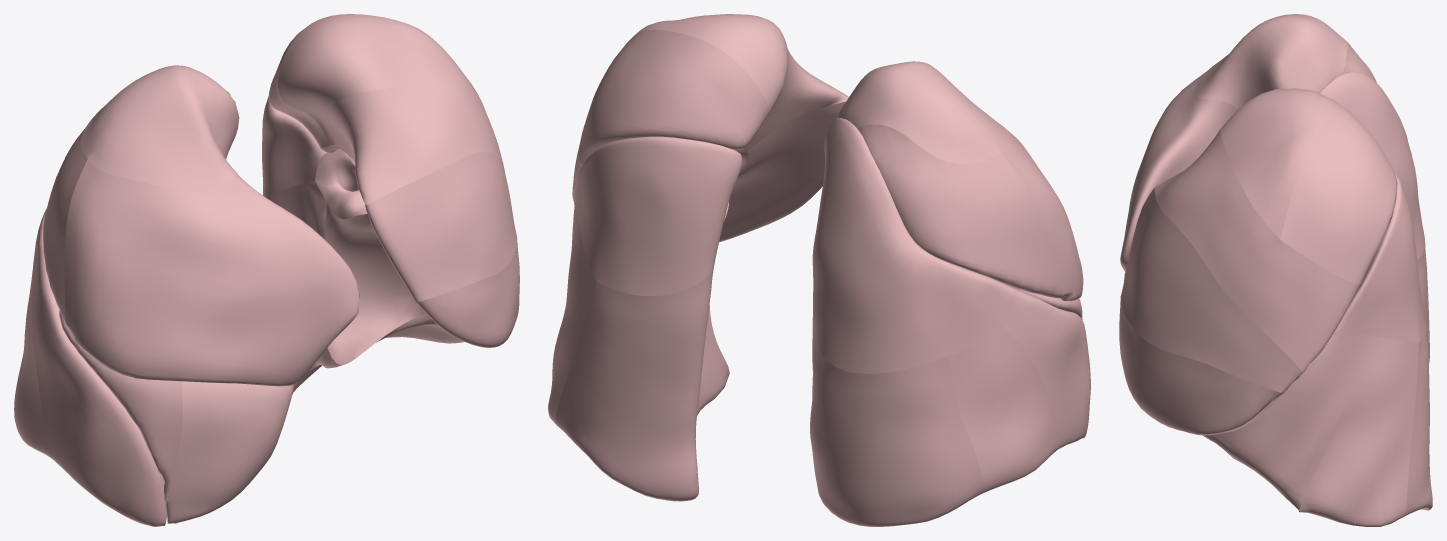
File: 3d-vh-f-lung.glb
The picture shows the model from 3 angles, left to right: view 1: azimuth 30°, elevation 25°; view 2: azimuth 150°, elevation 25°; view 3: azimuth 270°, elevation 25°; orthographic projection. The views are drawn at different scales.
Visible parts, largest first — view 1: VH_F_right_anterior_bronchopulmonary_segm, VH_F_right_anterior_basal_bronchopulmonary_segment, VH_F_lingula_superior_bronchopulmonary_segment, VH_F_right_apical_bronchopulmonary_segment, VH_F_left_anterior_bronchopulmonary_segment, VH_F_left_apical_bronchopulmonary_segment, VH_F_right_medial_bronchopulmonary_segment, VH_F_left_medial_basal_bronchopulmonary_segment, VH_F_lingula_inferior_bronchopulmonary_segment, VH_F_right_lateral_bronchopulmonary_segmennt, VH_F_left_superior_bronchopulmonary_segment, VH_F_right_posterior_bronchopulmonary_segment (+6 smaller); view 2: VH_F_right_superior_bronchopulmonary_segment, VH_F_left_posterior_basal_bronchopulmonary_segment, VH_F_right_posterior_basal_bronchopulmonary_segment, VH_F_left_superior_bronchopulmonary_segment, VH_F_right_posterior_bronchopulmonary_segment, VH_F_left_posterior_bronchopulmonary_segment, VH_F_right_lateral_basal_bronchopulmonary_segment, VH_F_right_apical_bronchopulmonary_segment, VH_F_right_anterior_basal_bronchopulmonary_segment, VH_F_left_apical_bronchopulmonary_segment, VH_F_lingula_inferior_bronchopulmonary_segment, VH_F_lingula_superior_bronchopulmonary_segment (+3 smaller); view 3: VH_F_left_anterior_bronchopulmonary_segment, VH_F_lingula_superior_bronchopulmonary_segment, VH_F_left_lateral_basal_bronchopulmonary_segment, VH_F_left_posterior_bronchopulmonary_segment, VH_F_left_anterior_basal_bronchopulmonary_segment, VH_F_lingula_inferior_bronchopulmonary_segment, VH_F_left_apical_bronchopulmonary_segment, VH_F_right_apical_bronchopulmonary_segment, VH_F_left_superior_bronchopulmonary_segment, VH_F_right_anterior_bronchopulmonary_segm, VH_F_right_superior_bronchopulmonary_segment, VH_F_left_posterior_basal_bronchopulmonary_segment (+2 smaller).
Part boxes in pixels (x1,y1,x2,y2): VH_F_right_anterior_bronchopulmonary_segm: (64,159,359,386); VH_F_right_anterior_basal_bronchopulmonary_segment: (32,265,166,526); VH_F_lingula_superior_bronchopulmonary_segment: (365,151,517,302); VH_F_right_apical_bronchopulmonary_segment: (81,65,239,193); VH_F_left_anterior_bronchopulmonary_segment: (329,78,502,204); VH_F_left_apical_bronchopulmonary_segment: (278,14,470,145); VH_F_right_medial_bronchopulmonary_segment: (165,381,293,523); VH_F_left_medial_basal_bronchopulmonary_segment: (324,205,425,364); VH_F_lingula_inferior_bronchopulmonary_segment: (416,242,519,347); VH_F_right_lateral_bronchopulmonary_segmennt: (59,310,182,499); VH_F_left_superior_bronchopulmonary_segment: (262,95,326,197); VH_F_right_posterior_bronchopulmonary_segment: (43,129,87,325); VH_F_right_superior_bronchopulmonary_segment: (812,118,1012,373); VH_F_left_posterior_basal_bronchopulmonary_segment: (555,265,729,501); VH_F_right_posterior_basal_bronchopulmonary_segment: (810,325,983,526); VH_F_left_superior_bronchopulmonary_segment: (576,136,742,295); VH_F_right_posterior_bronchopulmonary_segment: (857,124,1064,298); VH_F_left_posterior_bronchopulmonary_segment: (579,29,769,164); VH_F_right_lateral_basal_bronchopulmonary_segment: (948,322,1058,493); VH_F_right_apical_bronchopulmonary_segment: (836,61,1012,163); VH_F_right_anterior_basal_bronchopulmonary_segment: (999,287,1090,449); VH_F_left_apical_bronchopulmonary_segment: (634,14,788,113); VH_F_lingula_inferior_bronchopulmonary_segment: (719,171,823,242); VH_F_lingula_superior_bronchopulmonary_segment: (739,101,845,178); VH_F_left_anterior_bronchopulmonary_segment: (1154,129,1360,372); VH_F_lingula_superior_bronchopulmonary_segment: (1120,188,1303,393); VH_F_left_lateral_basal_bronchopulmonary_segment: (1299,335,1418,526); VH_F_left_posterior_bronchopulmonary_segment: (1280,100,1397,284); VH_F_left_anterior_basal_bronchopulmonary_segment: (1202,330,1369,510); VH_F_lingula_inferior_bronchopulmonary_segment: (1119,300,1283,435); VH_F_left_apical_bronchopulmonary_segment: (1220,88,1333,239); VH_F_right_apical_bronchopulmonary_segment: (1194,14,1348,109); VH_F_left_superior_bronchopulmonary_segment: (1335,173,1426,342); VH_F_right_anterior_bronchopulmonary_segm: (1120,71,1238,272); VH_F_right_superior_bronchopulmonary_segment: (1319,71,1424,259); VH_F_left_posterior_basal_bronchopulmonary_segment: (1404,329,1432,516).
Size of the model in its own units: 0.2511 by 0.223 by 0.1526.
